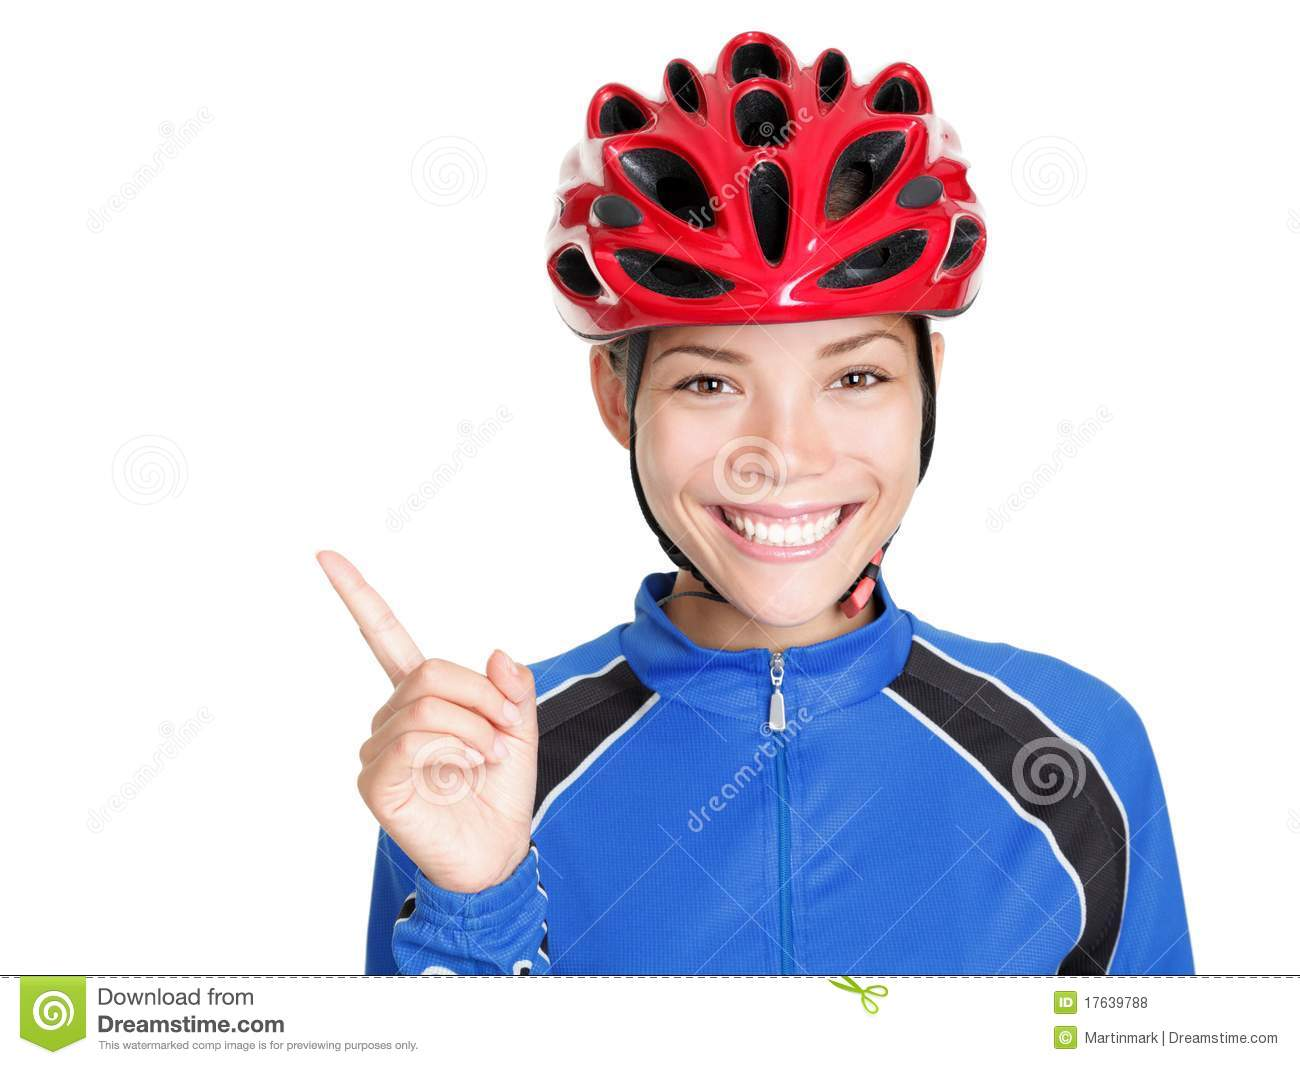helmet: (545, 30, 984, 628)
